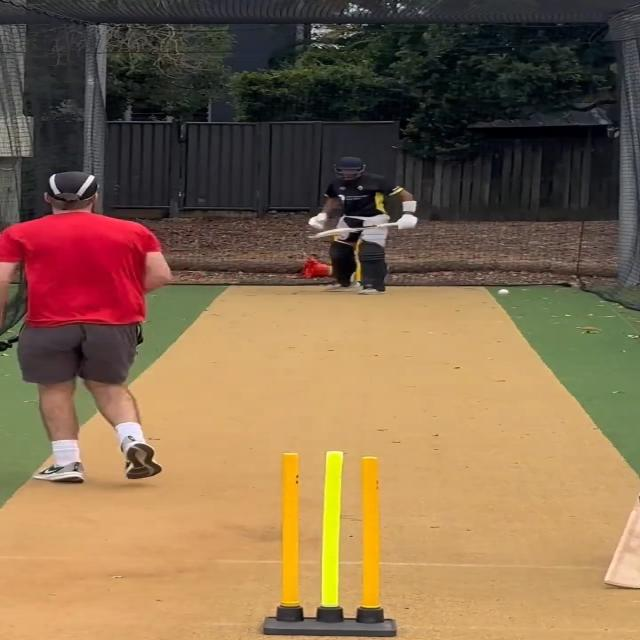ball: (496, 288, 510, 296)
stump: (259, 447, 398, 640)
